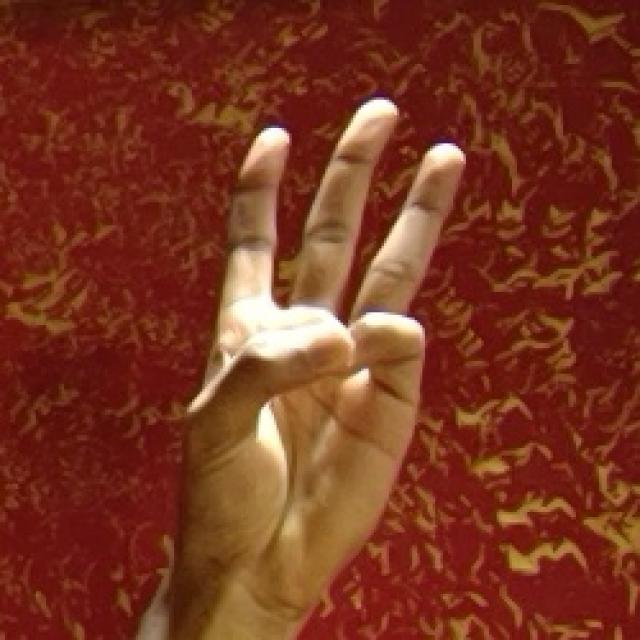Numeric-6: (184, 90, 485, 588)
